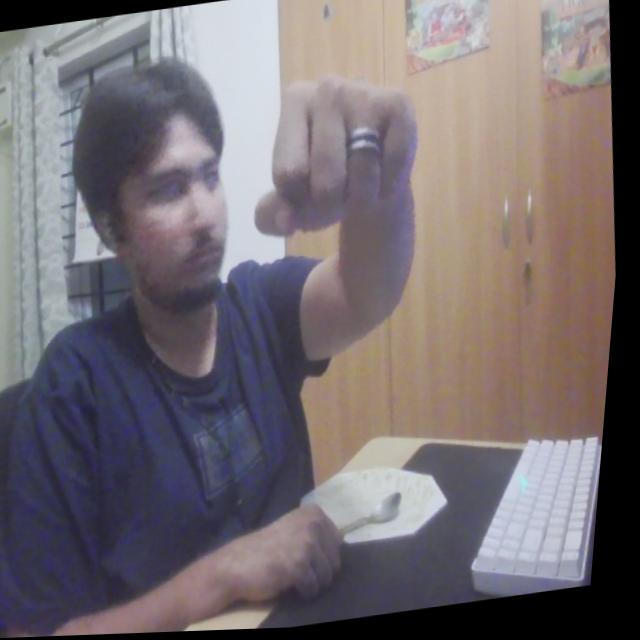yes: (236, 54, 445, 250)
